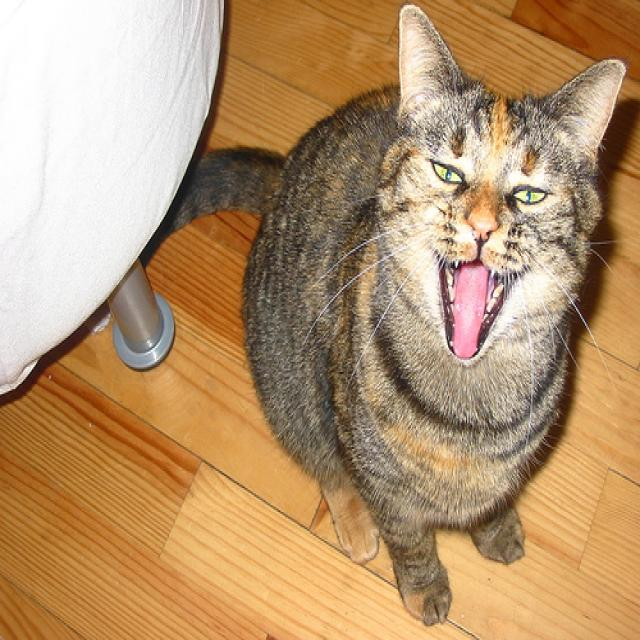cat: (145, 3, 629, 627)
